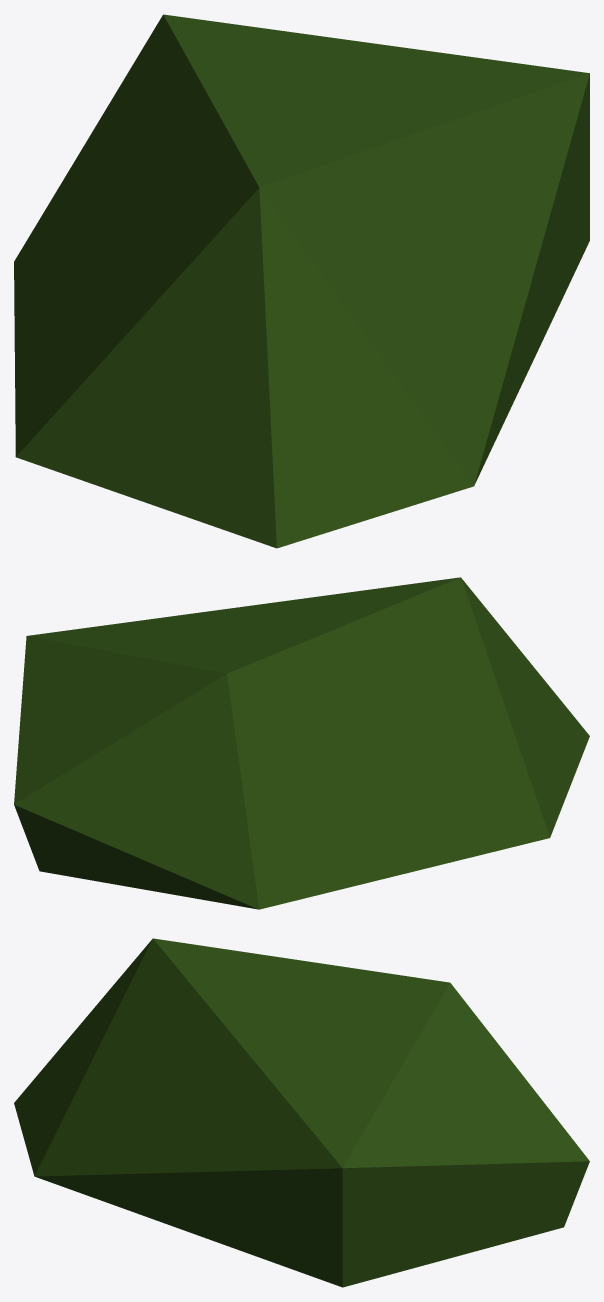
File: Bush.006.fbx
The picture shows the model from 3 angles, top to bottom: view 1: azimuth 30°, elevation 25°; view 2: azimuth 150°, elevation 25°; view 3: azimuth 270°, elevation 25°; orthographic projection. The views are drawn at different scales.
Visible parts, largest first — view 1: Bush.006; view 2: Bush.006; view 3: Bush.006.
Part boxes in pixels (<box>): Bush.006: <box>14,14,589,548</box>; Bush.006: <box>14,577,589,909</box>; Bush.006: <box>14,938,589,1287</box>.
Size of the model in its own units: 1 by 0.4 by 1.08.
